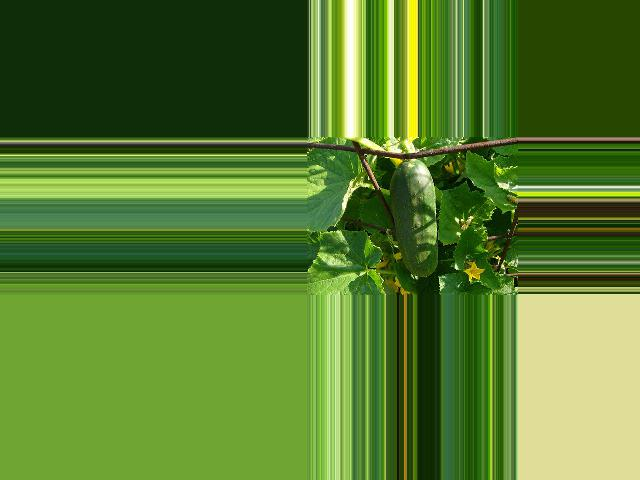cucumber: (388, 159, 437, 277)
